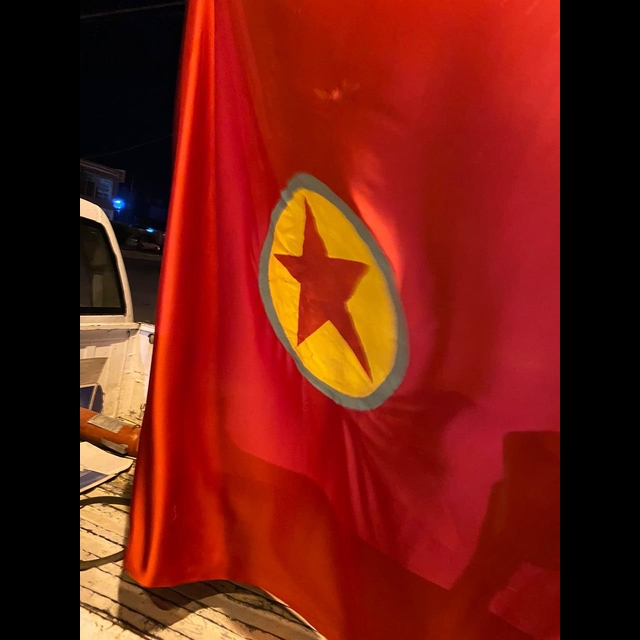PKK: (253, 175, 421, 414)
